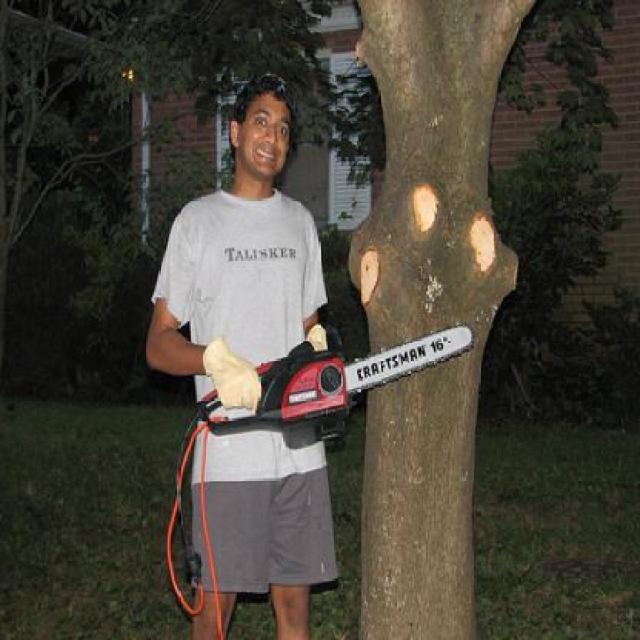Chainsaw: (188, 317, 478, 452)
